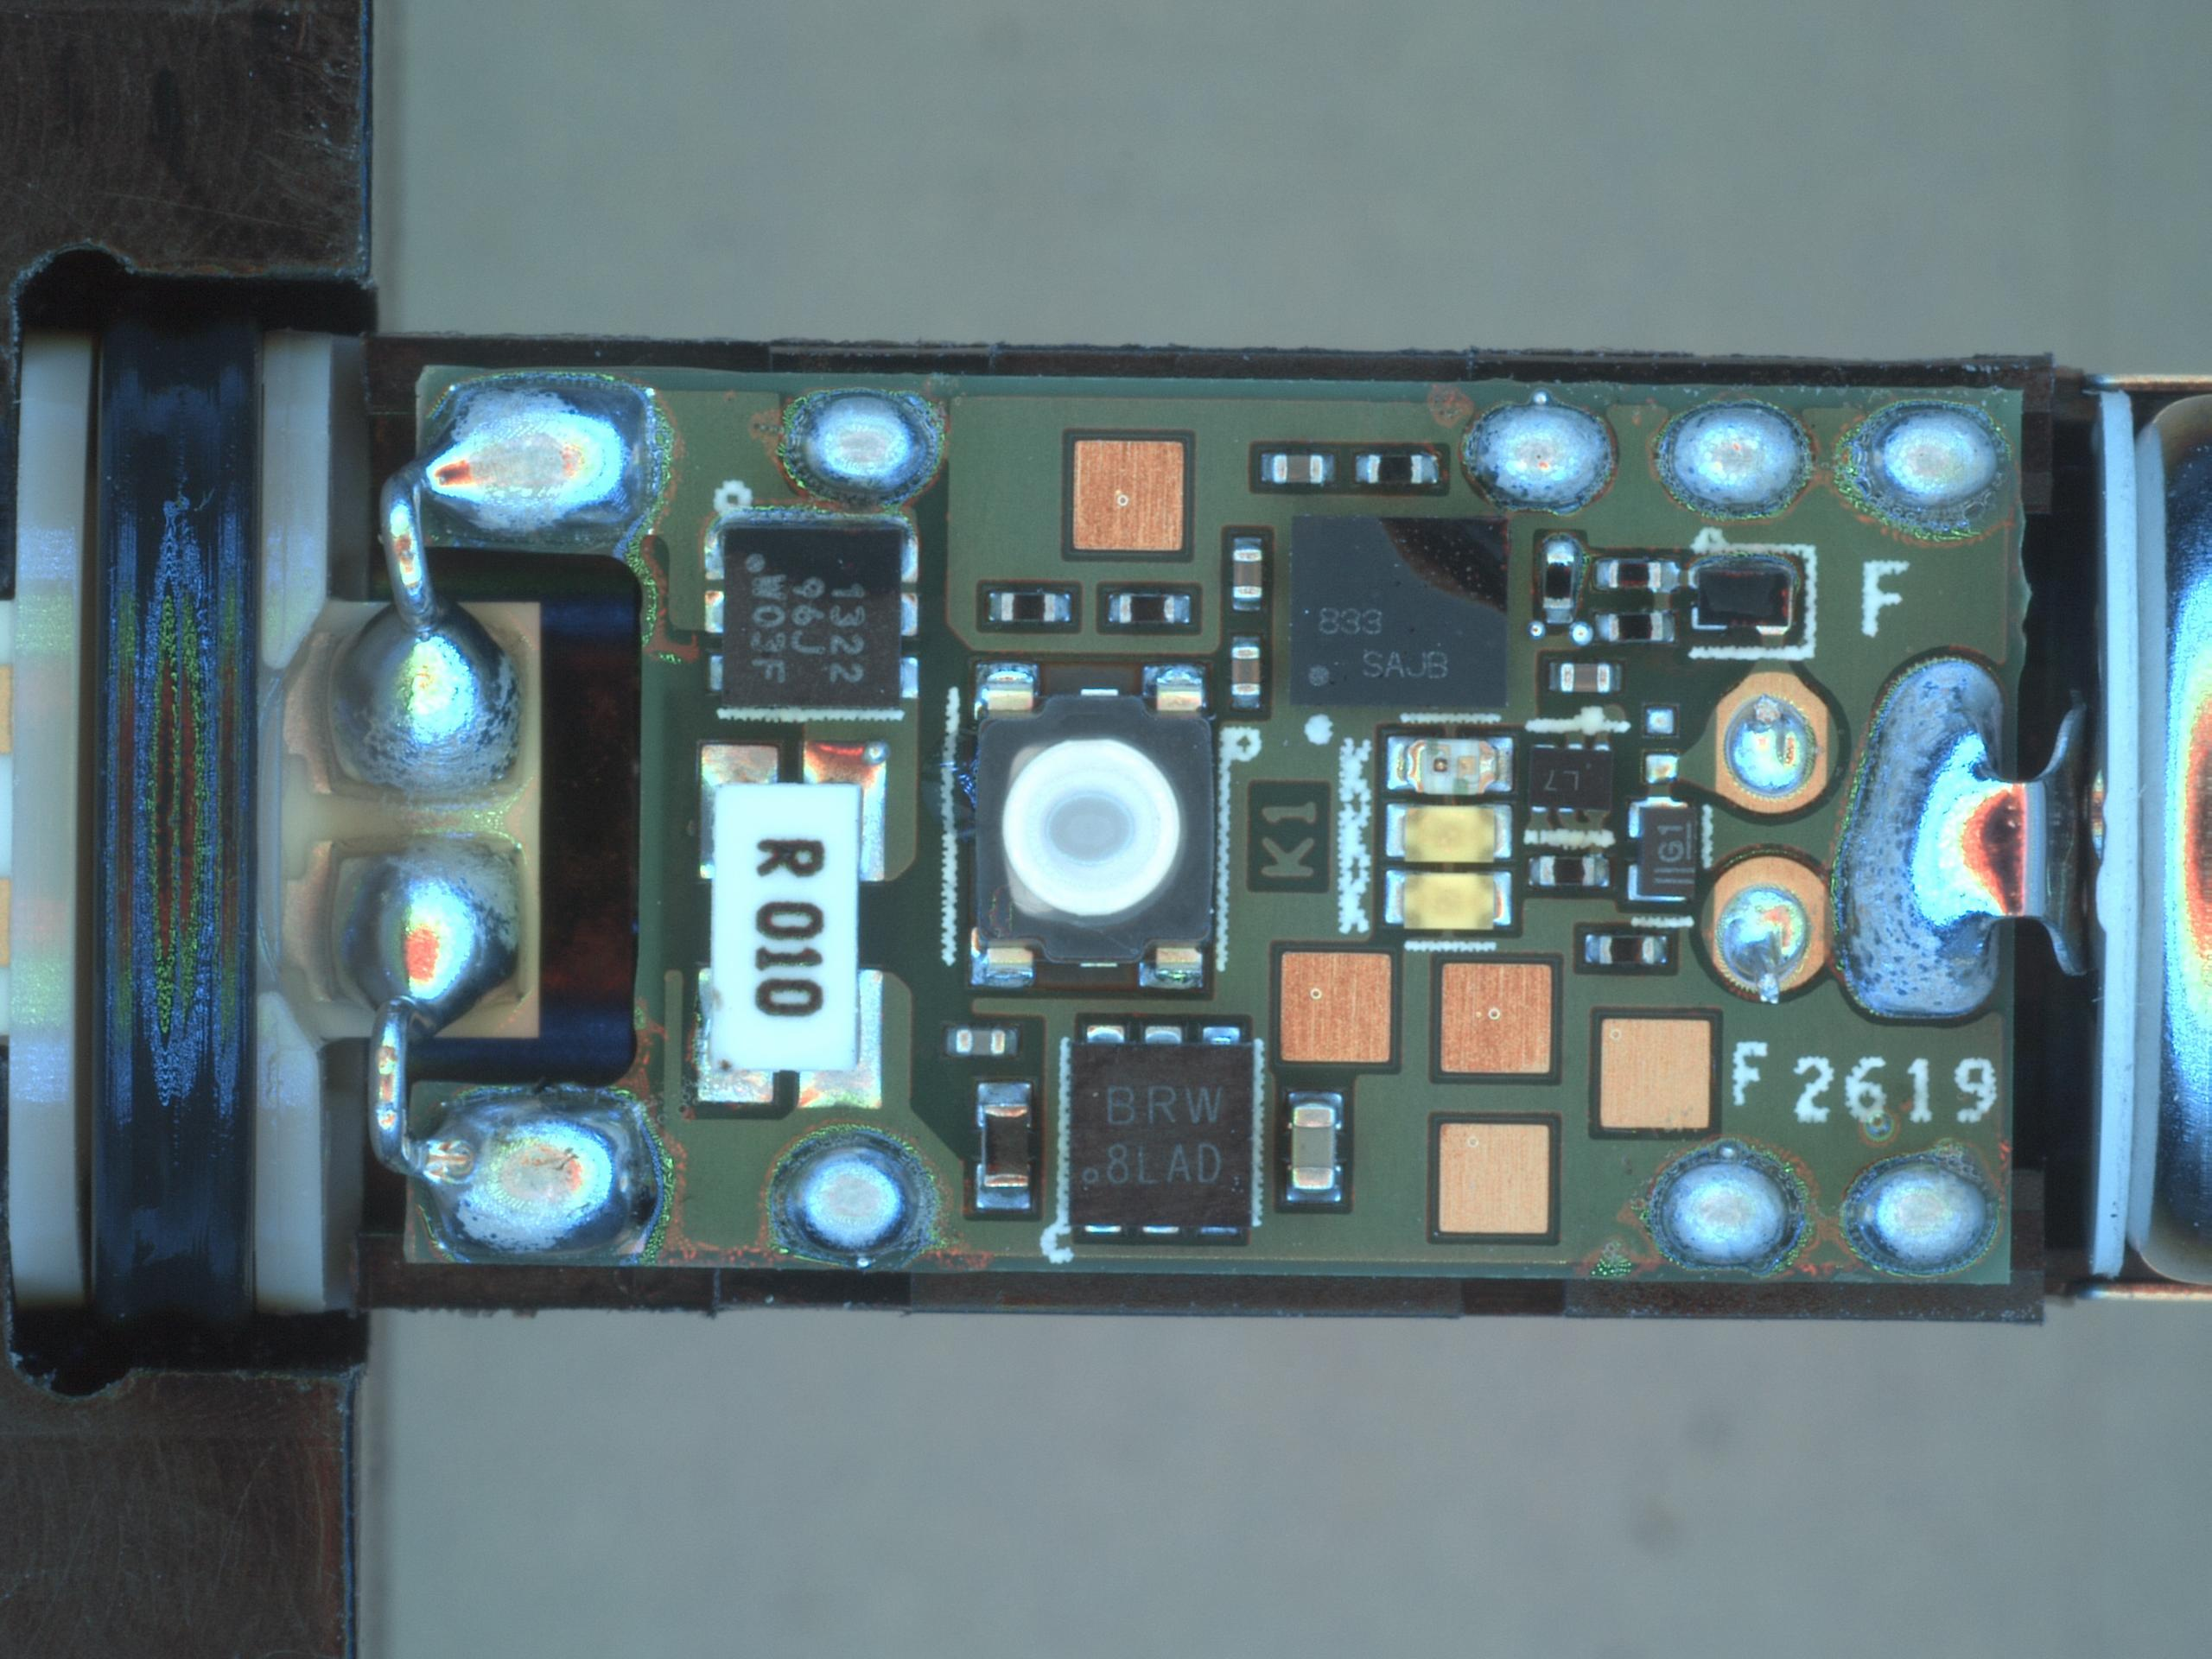solderball: (1571, 622, 1592, 645), (1529, 619, 1545, 638), (1533, 389, 1548, 406)
